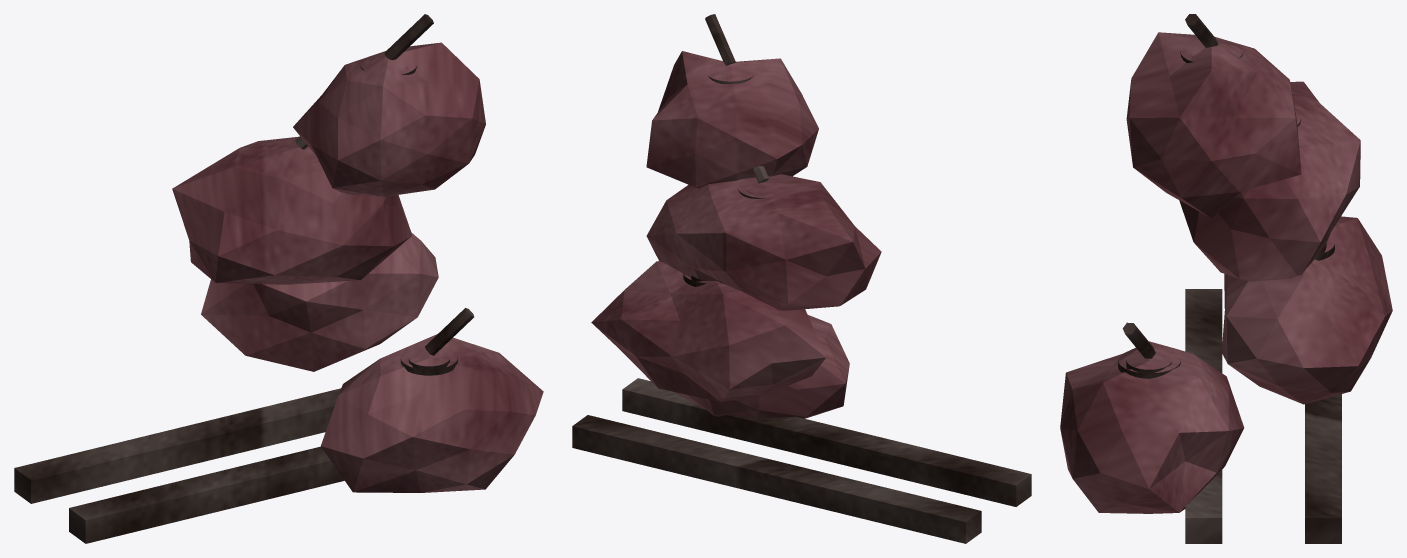
Rendered from 0809_sack_stack_09.glb.
3 renders of one model, left to right at view 1: azimuth 30°, elevation 25°; view 2: azimuth 150°, elevation 25°; view 3: azimuth 270°, elevation 25°, orthographic. The views are drawn at different scales.
Visible parts, largest first — view 1: cloth, wood_dark; view 2: cloth, wood_dark; view 3: cloth, wood_dark.
Part boxes in pixels (x1,y1,x2,y2): cloth: [172, 42, 543, 492]; wood_dark: [14, 14, 474, 543]; cloth: [591, 51, 881, 418]; wood_dark: [572, 14, 1031, 543]; cloth: [1060, 32, 1392, 513]; wood_dark: [1118, 14, 1341, 543].
Size of the model in its own units: 1.96 by 1.92 by 1.17.
2 materials, 2 textured.
